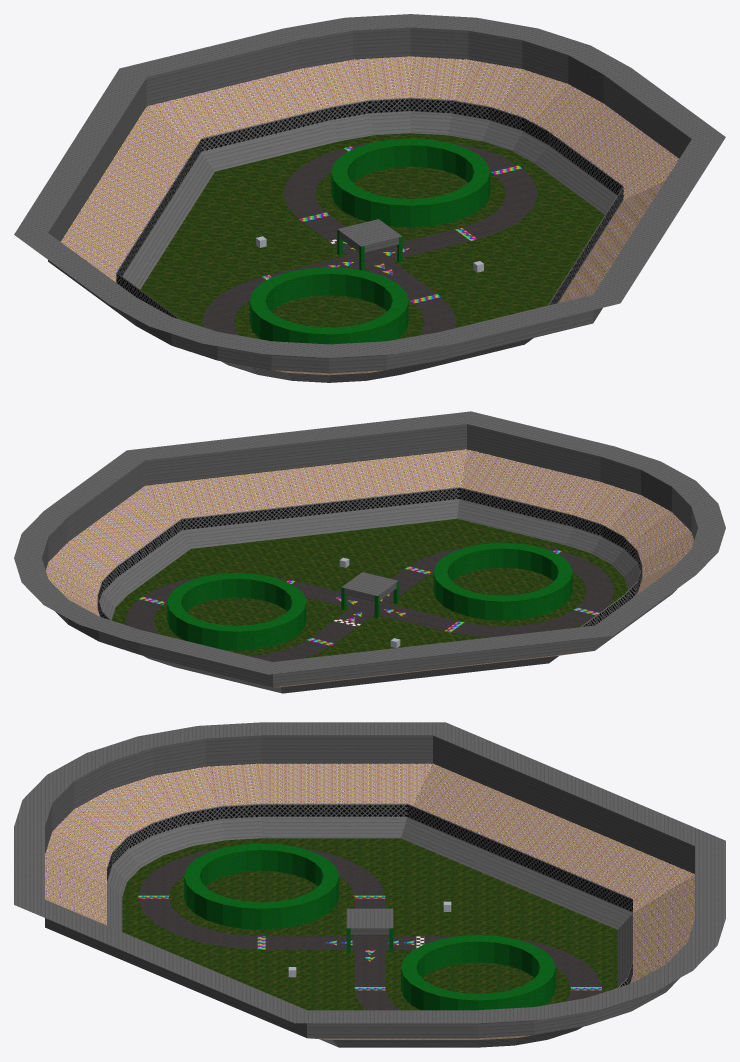
3 views of the same model, one above another, from view 1: azimuth 30°, elevation 25°; view 2: azimuth 150°, elevation 25°; view 3: azimuth 270°, elevation 25° (orthographic). The views are drawn at different scales.
Parts seen in each view (by area): view 1: course-SKP--8_stadium.001, course-SKP--8_slowdown.001, course-SKP--8_people.001, course-SKP--8_dokanwall.001, course-SKP--8_road.001, course-SKP--8_net.001, course-SKP--8_boost.001; view 2: course-SKP--8_stadium.001, course-SKP--8_people.001, course-SKP--8_slowdown.001, course-SKP--8_dokanwall.001, course-SKP--8_road.001, course-SKP--8_net.001, course-SKP--8_boost.001; view 3: course-SKP--8_stadium.001, course-SKP--8_slowdown.001, course-SKP--8_people.001, course-SKP--8_dokanwall.001, course-SKP--8_road.001, course-SKP--8_net.001, course-SKP--8_boost.001.
Part boxes in pixels (left/top/right/bottom): course-SKP--8_stadium.001: left=14, top=14, right=725, bottom=382; course-SKP--8_slowdown.001: left=140, top=133, right=604, bottom=338; course-SKP--8_people.001: left=61, top=56, right=678, bottom=375; course-SKP--8_dokanwall.001: left=249, top=138, right=490, bottom=344; course-SKP--8_road.001: left=202, top=143, right=537, bottom=335; course-SKP--8_net.001: left=116, top=97, right=623, bottom=319; course-SKP--8_boost.001: left=262, top=146, right=522, bottom=303; course-SKP--8_stadium.001: left=14, top=411, right=725, bottom=693; course-SKP--8_people.001: left=46, top=449, right=693, bottom=687; course-SKP--8_slowdown.001: left=111, top=518, right=628, bottom=658; course-SKP--8_dokanwall.001: left=167, top=542, right=572, bottom=650; course-SKP--8_road.001: left=125, top=547, right=614, bottom=661; course-SKP--8_net.001: left=97, top=487, right=642, bottom=627; course-SKP--8_boost.001: left=139, top=550, right=598, bottom=645; course-SKP--8_stadium.001: left=14, top=722, right=725, bottom=1047; course-SKP--8_slowdown.001: left=122, top=838, right=617, bottom=1010; course-SKP--8_people.001: left=45, top=763, right=694, bottom=1039; course-SKP--8_dokanwall.001: left=184, top=843, right=555, bottom=1010; course-SKP--8_road.001: left=138, top=848, right=601, bottom=1010; course-SKP--8_net.001: left=107, top=803, right=632, bottom=987; course-SKP--8_boost.001: left=138, top=895, right=601, bottom=990.
Bounding box in the file's own units: 92000 × 10000 × 92000.
Materials: 9 (9 with a texture image).
